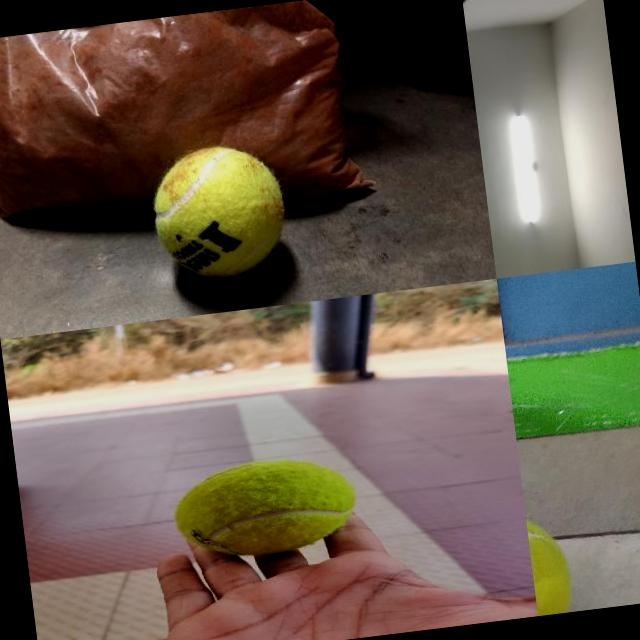Tennis Ball: (170, 449, 363, 565), (146, 138, 294, 284)
